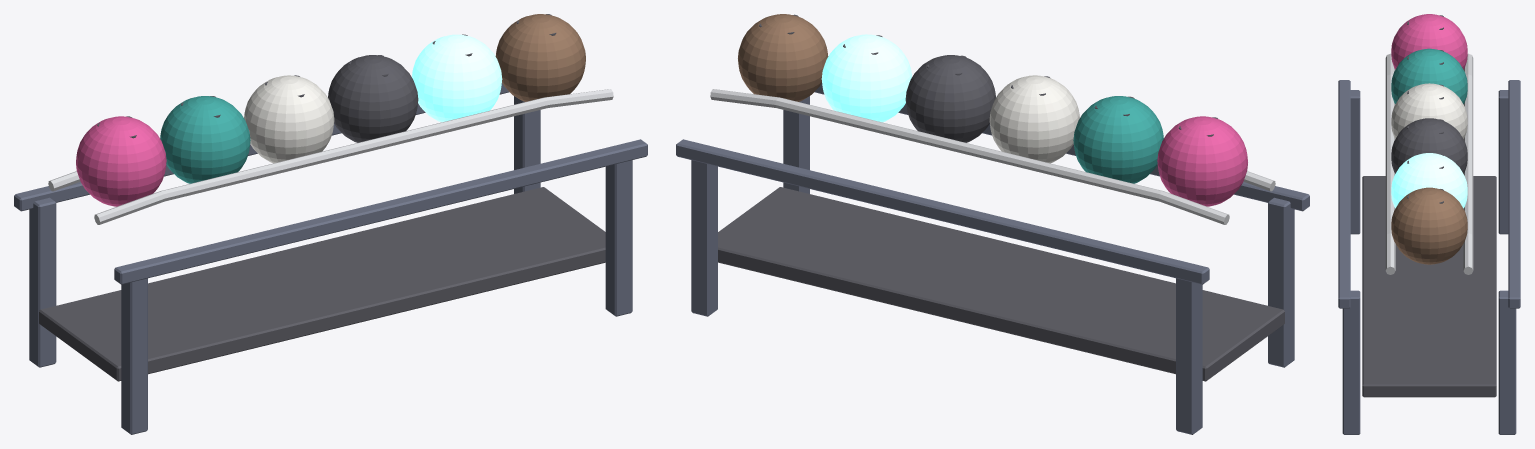
File: bowling-alley-and-pool-hall-ball-rack-with-balls-cb7bda9f__33844.glb
3 renders of one model, left to right at view 1: azimuth 30°, elevation 25°; view 2: azimuth 150°, elevation 25°; view 3: azimuth 270°, elevation 25°, orthographic. The views are drawn at different scales.
Visible parts, largest first — view 1: ball-rack-with-balls; view 2: ball-rack-with-balls; view 3: ball-rack-with-balls.
Part boxes in pixels (<box>): ball-rack-with-balls: <box>14,14,647,434</box>; ball-rack-with-balls: <box>676,14,1309,434</box>; ball-rack-with-balls: <box>1338,14,1520,434</box>.
Size of the model in its own units: 1.46 by 0.7076 by 0.5149.
